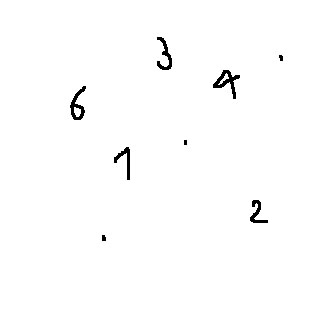.: (273, 50, 289, 74), (176, 129, 191, 150), (99, 229, 113, 250)
2: (246, 193, 280, 230)
3: (151, 33, 177, 78)
4: (209, 59, 245, 102)
6: (64, 83, 96, 124)
7: (104, 143, 152, 183)
